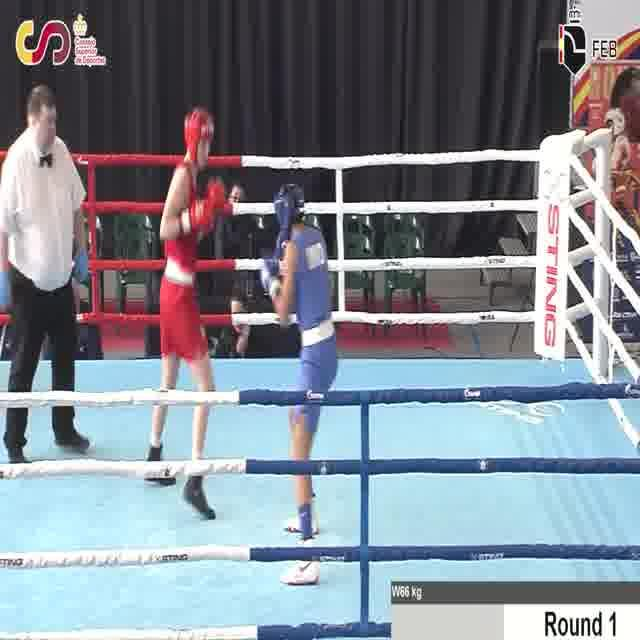blue-player: (259, 181, 343, 587)
red-player: (142, 100, 229, 522)
referee: (0, 81, 92, 470)
